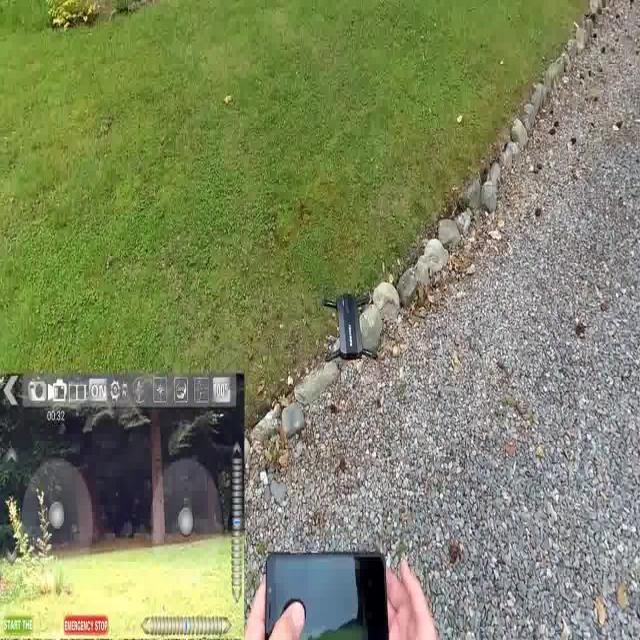drone: (317, 285, 383, 370)
